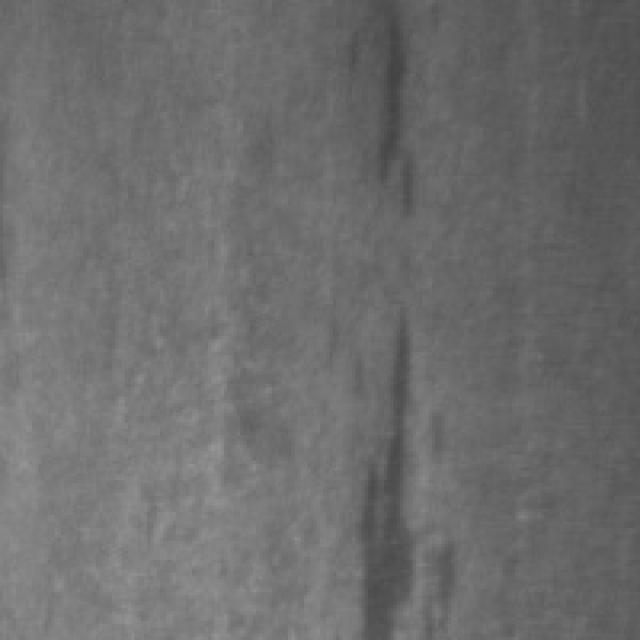inclusion: (336, 288, 438, 630), (355, 0, 432, 221)
